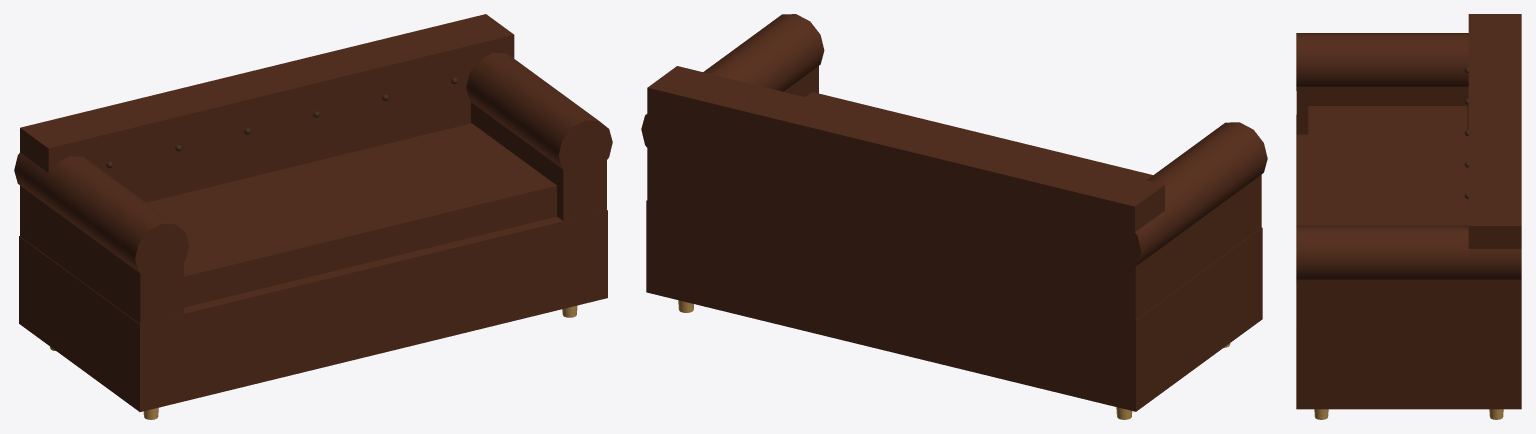
The model's file is sofa_chesterfield.glb.
3 views of the same model, side by side, from view 1: azimuth 30°, elevation 25°; view 2: azimuth 150°, elevation 25°; view 3: azimuth 270°, elevation 25° (orthographic). The views are drawn at different scales.
Visible parts, largest first — view 1: Part4, Part7, Part6, Part5, Part9, Part11, Part8, Part10; view 2: Part7, Part4, Part9, Part11, Part8, Part6, Part5, Part10; view 3: Part4, Part5, Part7, Part11, Part10, Part9, Part6, Part8.
Boxes of the visible parts, x1=… form: Part4: x1=19, y1=210, x2=607, y2=411; Part7: x1=20, y1=14, x2=514, y2=202; Part6: x1=282, y1=123, x2=556, y2=262; Part5: x1=146, y1=169, x2=367, y2=307; Part9: x1=14, y1=152, x2=189, y2=280; Part11: x1=466, y1=53, x2=612, y2=177; Part8: x1=20, y1=185, x2=183, y2=324; Part10: x1=471, y1=102, x2=606, y2=220; Part7: x1=647, y1=66, x2=1164, y2=319; Part4: x1=646, y1=200, x2=1262, y2=411; Part9: x1=1085, y1=122, x2=1267, y2=273; Part11: x1=641, y1=14, x2=824, y2=165; Part8: x1=1135, y1=174, x2=1261, y2=319; Part6: x1=806, y1=92, x2=1010, y2=145; Part5: x1=1004, y1=140, x2=1152, y2=180; Part10: x1=783, y1=66, x2=818, y2=96; Part4: x1=1296, y1=115, x2=1521, y2=409; Part5: x1=1308, y1=106, x2=1467, y2=191; Part7: x1=1468, y1=14, x2=1521, y2=326; Part11: x1=1296, y1=225, x2=1521, y2=283; Part10: x1=1296, y1=279, x2=1521, y2=327; Part9: x1=1296, y1=33, x2=1468, y2=90; Part6: x1=1308, y1=192, x2=1467, y2=225; Part8: x1=1296, y1=86, x2=1468, y2=134.
Size of the model in its own units: 1.94 by 0.84 by 0.85.
